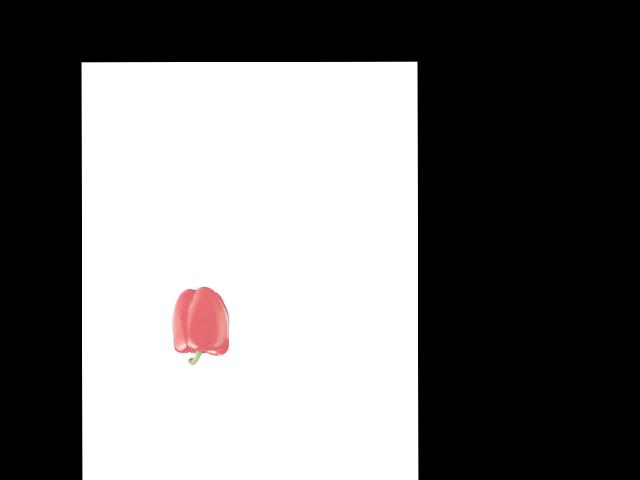bell_pepper: (169, 284, 233, 365)
